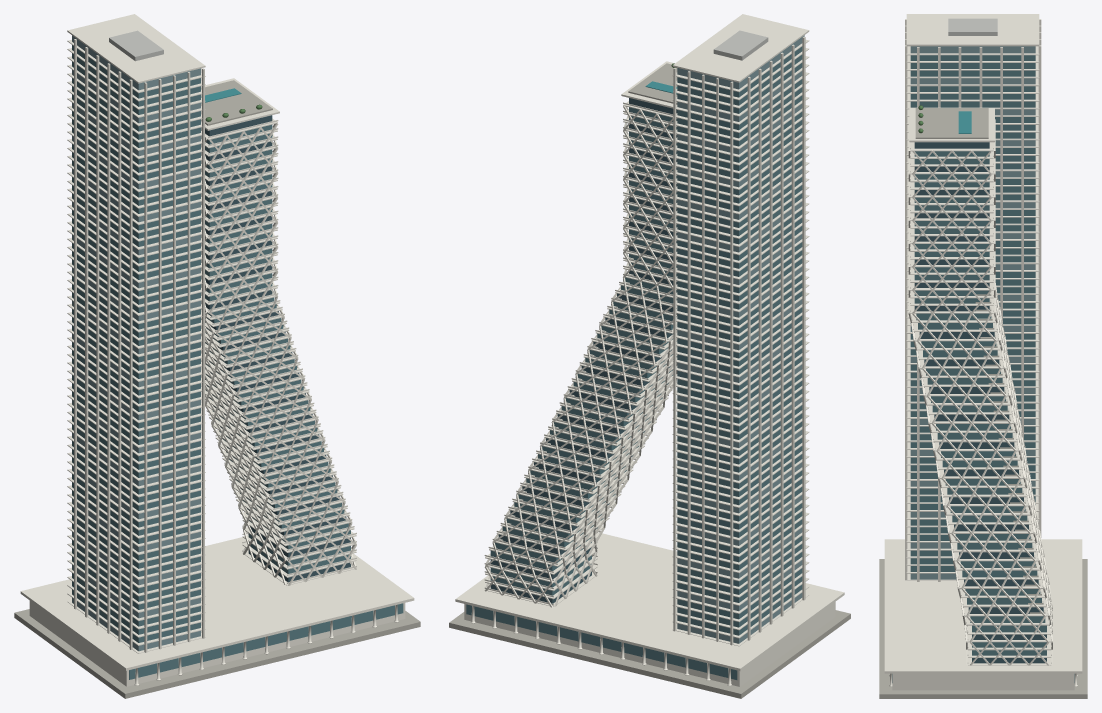
Rendered from map.glb.
The picture shows the model from 3 angles, left to right: view 1: azimuth 30°, elevation 25°; view 2: azimuth 150°, elevation 25°; view 3: azimuth 270°, elevation 25°; orthographic projection. The views are drawn at different scales.
Size of the model in its own units: 123 by 240 by 80.
